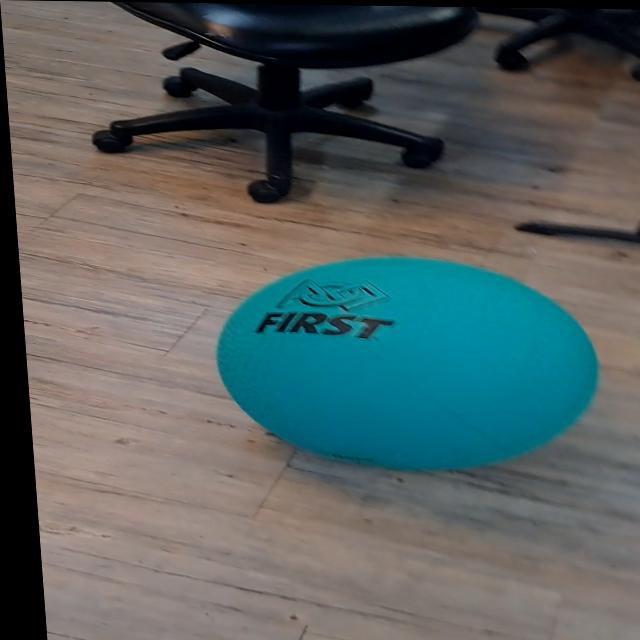ALGAE: (205, 252, 608, 475)
